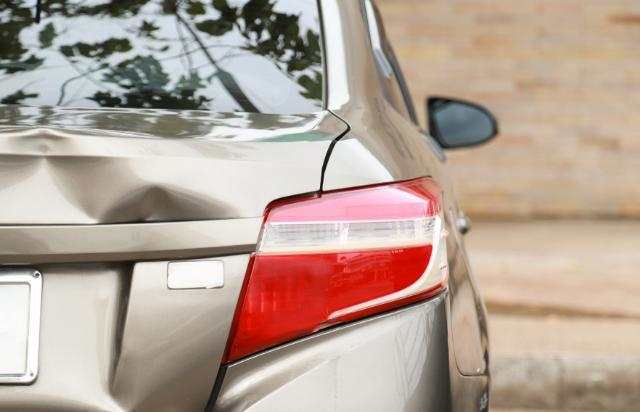Dickey: (0, 122, 238, 351)
